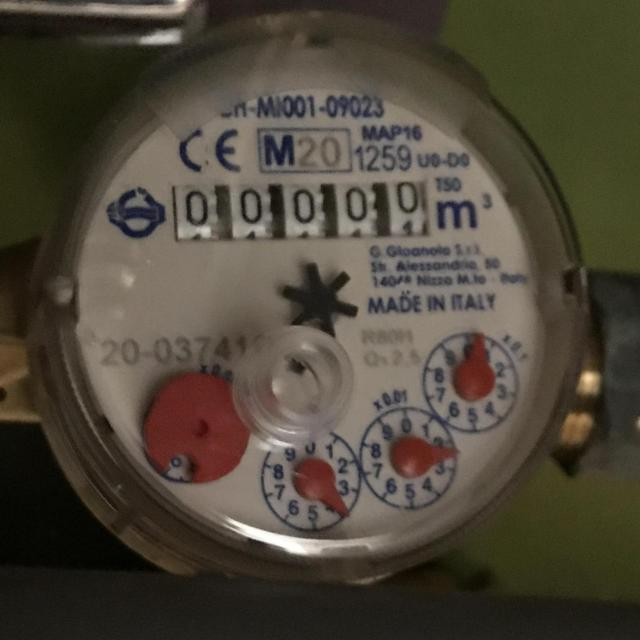gaz_meter: (63, 33, 579, 568)
indication: (171, 173, 429, 245)
